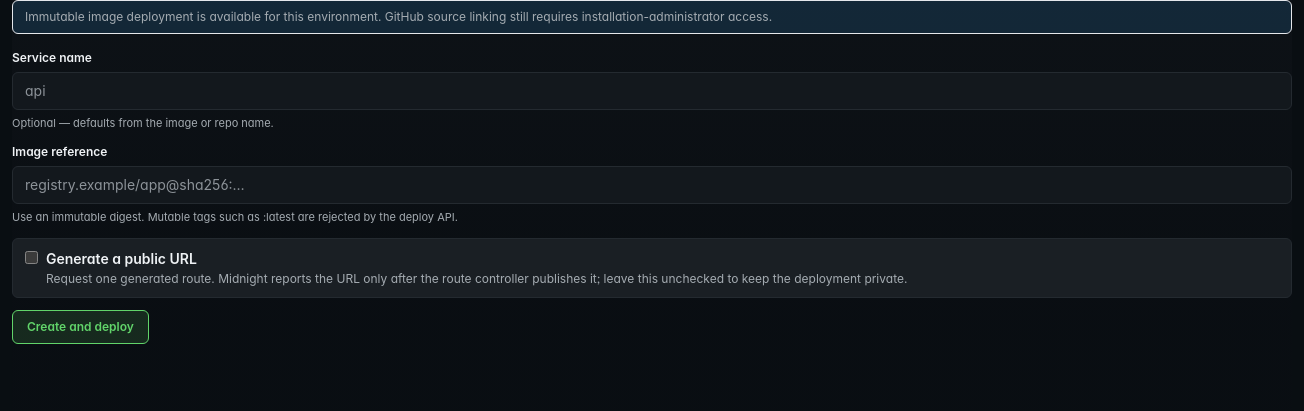
Test case: AddServiceForm tenant image admission › does not create or deploy for a mutable image
The width and height of the screenshot is (1304, 411).
Type "registry.example/team/api:latest" into the field with placeholder "registry.example/app@sha256:…". click: (652, 185)
box: [12,166,1292,204]
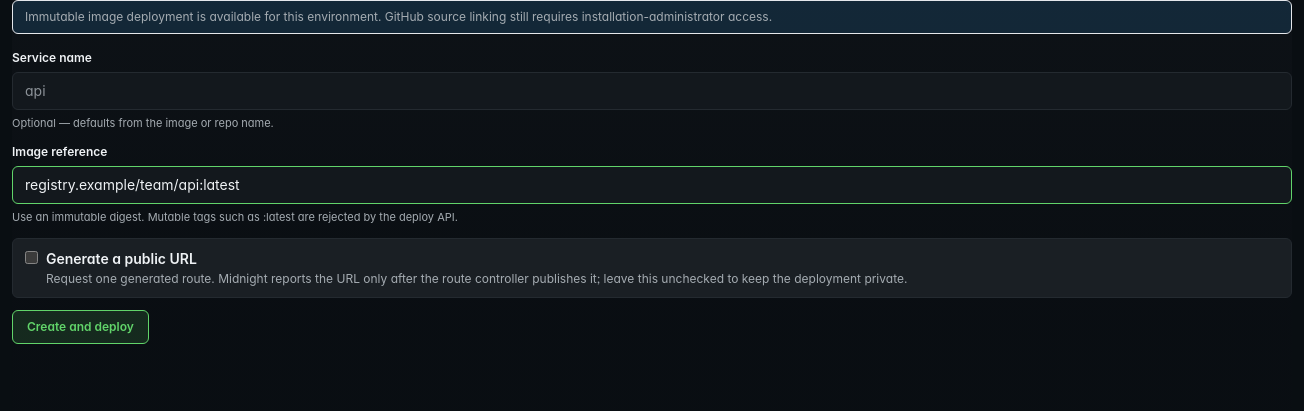
Click the button "Create and deploy". click: click(80, 327)
box: [12,310,149,344]
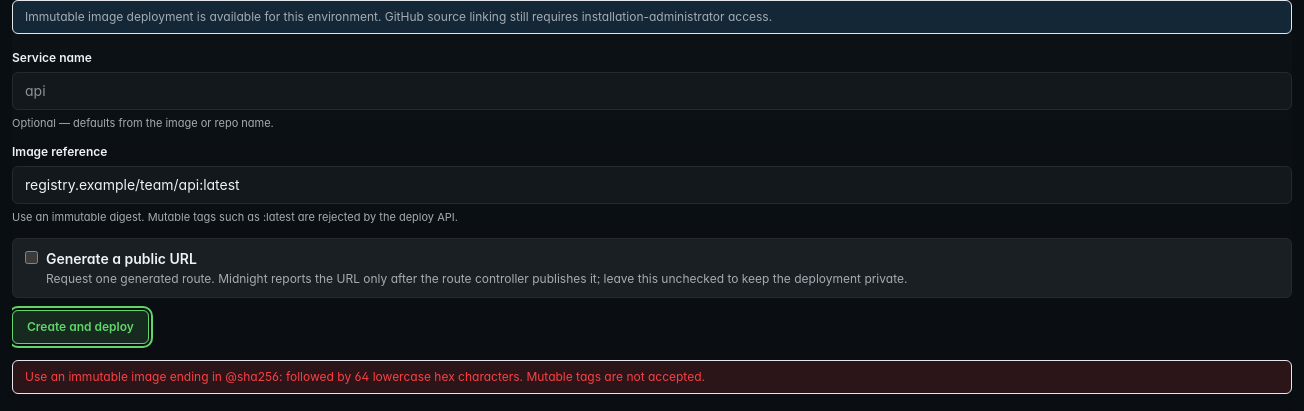
Result: the text "Mutable tags are not accepted" is shown at [25,369,705,384]
